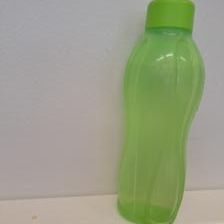bottle: (115, 1, 206, 222)
